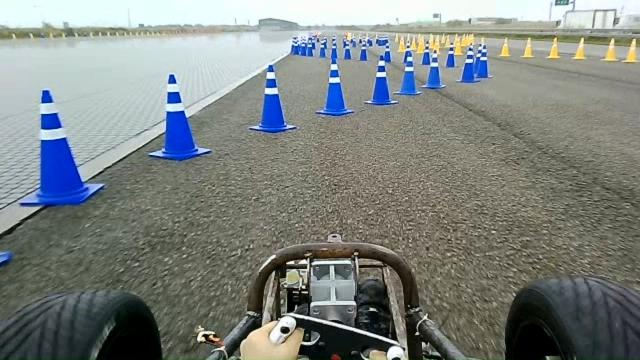blue cone: (19, 88, 105, 206), (148, 73, 211, 161), (248, 63, 297, 132), (316, 57, 354, 116), (363, 55, 399, 105), (393, 50, 422, 96), (421, 49, 446, 89), (456, 46, 480, 83), (476, 45, 494, 78)
yellow cone: (600, 38, 618, 62), (622, 38, 638, 62), (572, 36, 587, 60), (520, 36, 535, 58), (546, 36, 560, 58), (498, 37, 511, 57)
